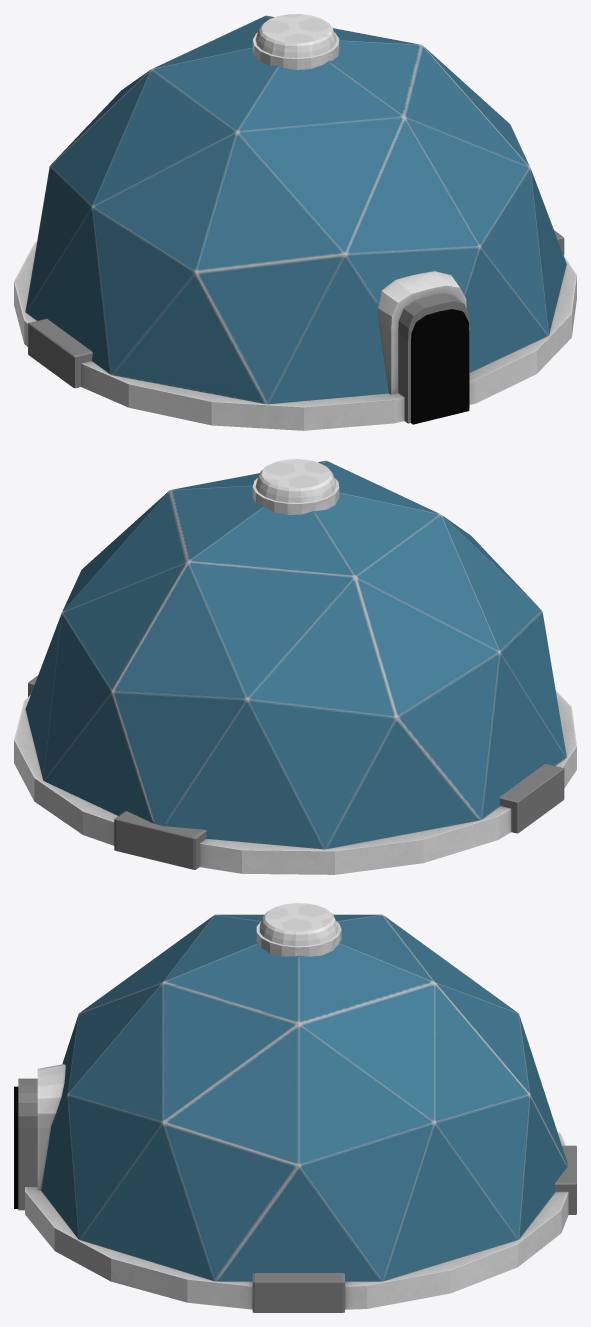
The model's file is habitat.glb.
3 renders of one model, top to bottom at view 1: azimuth 30°, elevation 25°; view 2: azimuth 150°, elevation 25°; view 3: azimuth 270°, elevation 25°, orthographic.
Parts seen in each view (by area): view 1: Icosphere, Circle, Cube.012, Circle.001, Cube.037, Cube.011, Cube; view 2: Icosphere, Circle, Circle.001, Cube.014, Cube.011; view 3: Icosphere, Circle, Circle.001, Cube.013, Cube, Cube.037, Cube.014, Cube.012.
Part boxes in pixels (x1,y1,x2,y2): Icosphere: [25, 15, 566, 404]; Circle: [14, 241, 576, 430]; Cube.012: [411, 309, 469, 424]; Circle.001: [252, 14, 339, 69]; Cube.037: [377, 271, 466, 394]; Cube.011: [28, 318, 92, 388]; Cube: [398, 294, 469, 423]; Icosphere: [25, 460, 566, 849]; Circle: [14, 690, 576, 874]; Circle.001: [252, 459, 339, 514]; Cube.014: [114, 811, 206, 869]; Cube.011: [499, 764, 564, 833]; Icosphere: [41, 914, 567, 1281]; Circle: [25, 1131, 568, 1309]; Circle.001: [256, 903, 341, 956]; Cube.013: [252, 1273, 344, 1312]; Cube: [18, 1078, 37, 1210]; Cube.037: [37, 1064, 65, 1190]; Cube.014: [554, 1145, 576, 1214]; Cube.012: [14, 1086, 18, 1208].
Bounding box in the file's own units: 2.11 × 1.16 × 2.13.
Materials: 1 (1 with a texture image).
